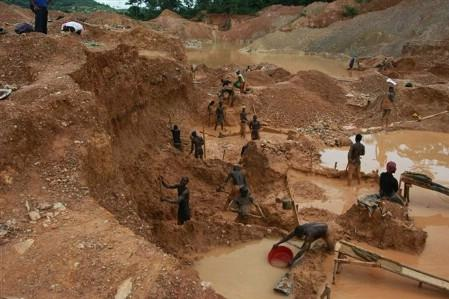Person: (270, 220, 333, 268), (161, 177, 190, 226), (230, 187, 264, 225), (222, 163, 246, 210), (379, 161, 405, 203), (347, 134, 365, 187), (266, 244, 294, 268), (380, 85, 393, 128), (189, 129, 204, 159), (168, 124, 183, 152), (249, 115, 263, 140), (235, 70, 248, 94), (216, 102, 227, 130), (239, 105, 248, 139), (207, 100, 215, 129), (219, 77, 232, 88)
ProcessingEquiment: (333, 237, 448, 299), (400, 165, 449, 205)
